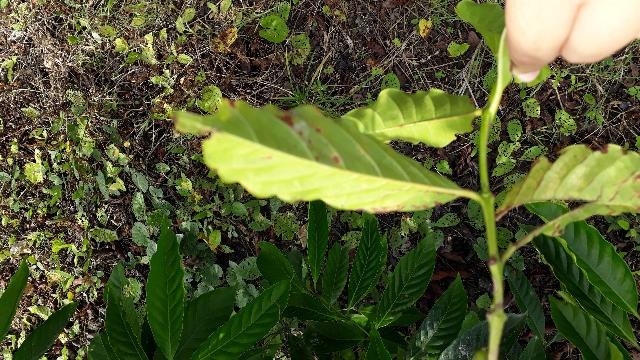red_spider_mite: (165, 144, 475, 261)
